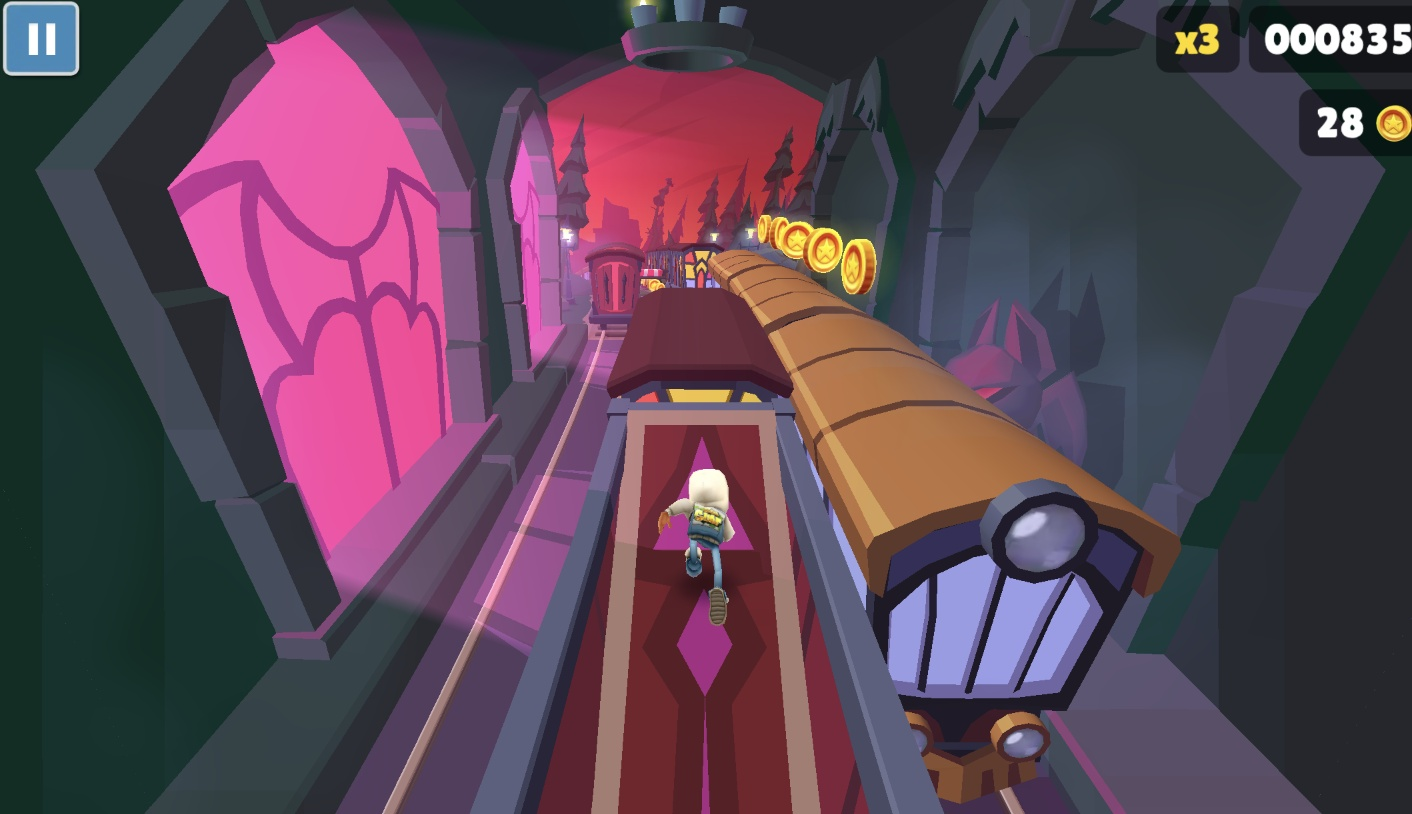ground_barrier: (639, 268, 666, 292)
train: (434, 286, 978, 814), (710, 251, 1214, 754), (585, 248, 643, 332), (641, 244, 717, 294)
